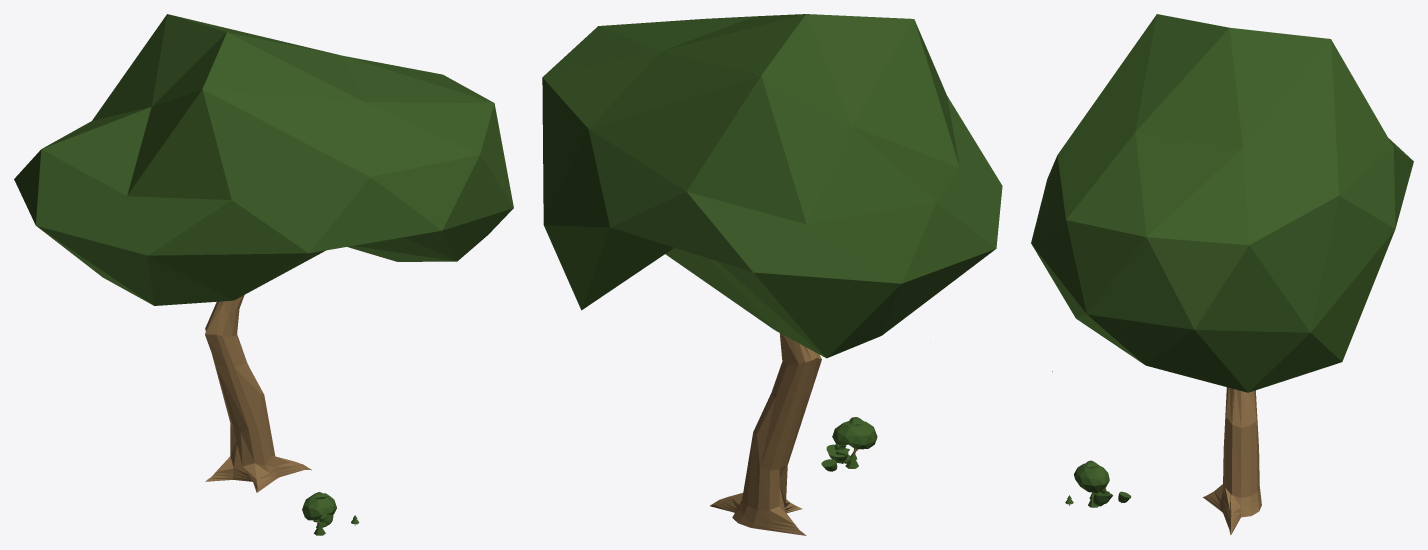
The model's file is small_tree.glb.
3 renders of one model, left to right at view 1: azimuth 30°, elevation 25°; view 2: azimuth 150°, elevation 25°; view 3: azimuth 270°, elevation 25°, orthographic. The views are drawn at different scales.
Visible parts, largest first — view 1: C-Icosphere#4, C-Cylinder#12, Icosphere#1.002; view 2: C-Icosphere#4, C-Cylinder#12, Icosphere#1.002; view 3: C-Icosphere#4, C-Cylinder#12, Icosphere#1.002.
Part boxes in pixels (x1,y1,x2,y2): C-Icosphere#4: (14,14,513,305); C-Cylinder#12: (205,295,311,492); Icosphere#1.002: (302,493,336,520); C-Icosphere#4: (542,14,1002,358); C-Cylinder#12: (710,333,821,535); Icosphere#1.002: (832,421,877,448); C-Icosphere#4: (1031,14,1413,392); C-Cylinder#12: (1203,387,1261,535); Icosphere#1.002: (1074,463,1109,492).
Size of the model in its own units: 4.46 by 4.59 by 3.41.
